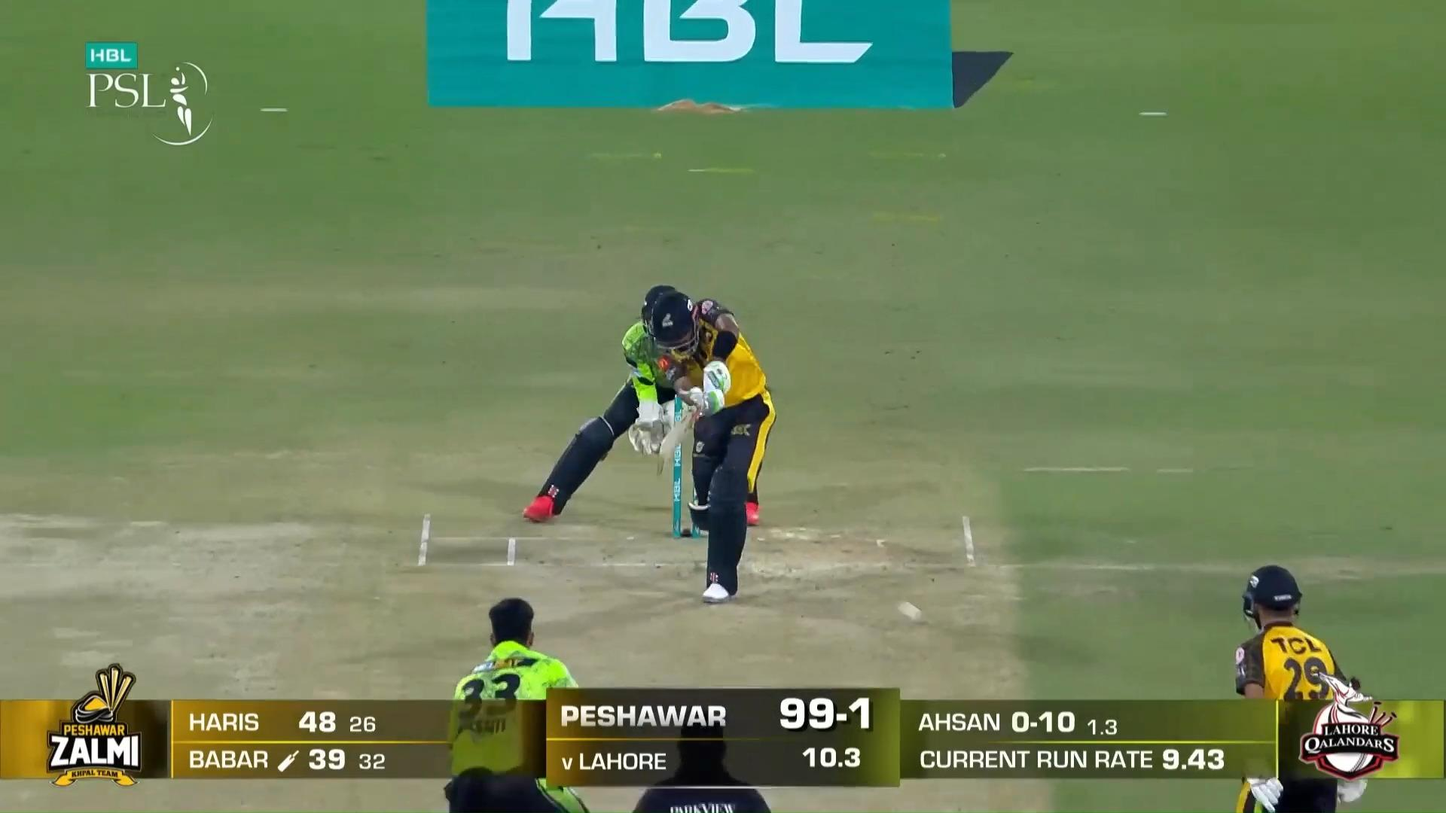batsman: (653, 289, 778, 606)
